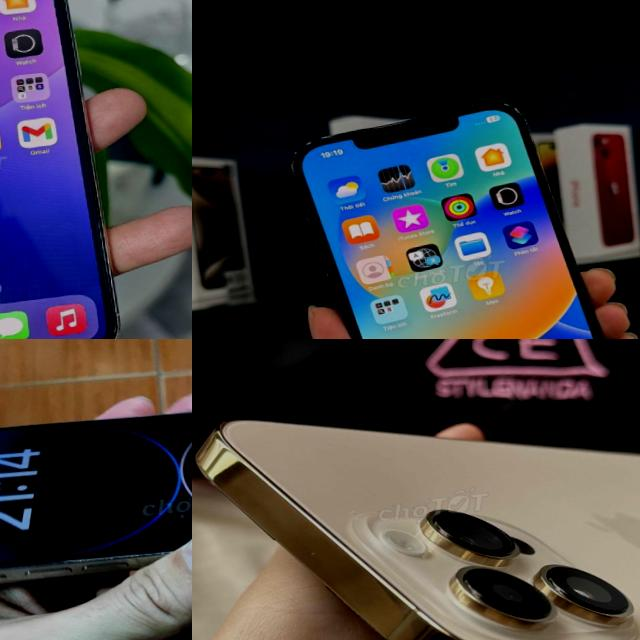gen_11: (0, 0, 143, 339)
gen_12_13: (286, 88, 640, 339)
gen_14: (192, 351, 640, 640), (0, 365, 192, 612)
